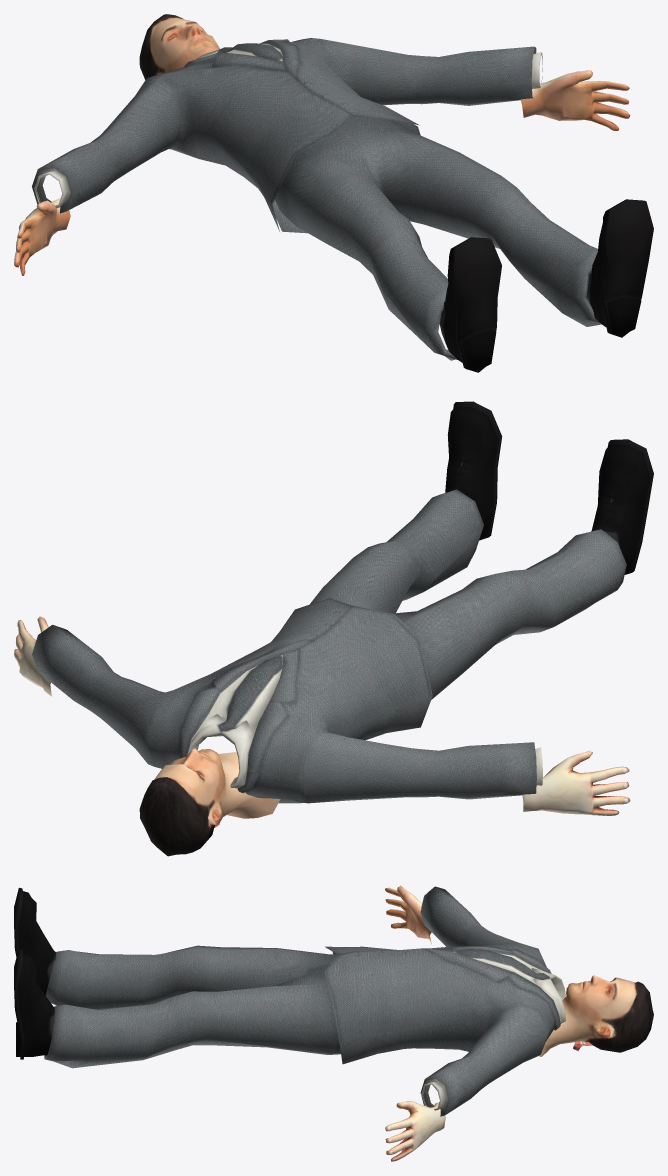
File: npc.glb
3 renders of one model, top to bottom at view 1: azimuth 30°, elevation 25°; view 2: azimuth 150°, elevation 25°; view 3: azimuth 270°, elevation 25°, orthographic. The views are drawn at different scales.
Visible parts, largest first — view 1: RPG_NPC; view 2: RPG_NPC; view 3: RPG_NPC.
Part boxes in pixels (x1,y1,x2,y2): RPG_NPC: [14, 14, 653, 372]; RPG_NPC: [14, 401, 653, 856]; RPG_NPC: [14, 885, 653, 1161].
Size of the model in its own units: 1.52 by 0.3789 by 1.69.
Materials: 1 (1 with a texture image).
